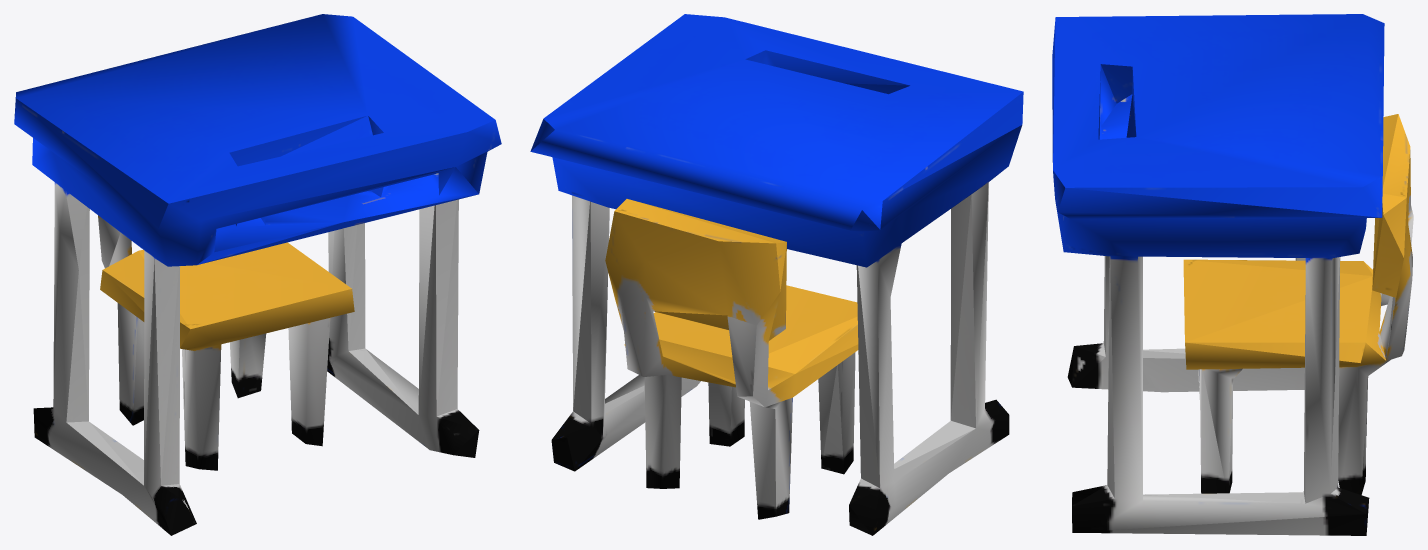
File: student-desk.glb
3 renders of one model, left to right at view 1: azimuth 30°, elevation 25°; view 2: azimuth 150°, elevation 25°; view 3: azimuth 270°, elevation 25°, orthographic. The views are drawn at different scales.
Visible parts, largest first — view 1: geometry_0.001; view 2: geometry_0.001; view 3: geometry_0.001.
Part boxes in pixels (x1,y1,x2,y2): geometry_0.001: (14, 14, 501, 535); geometry_0.001: (530, 14, 1023, 535); geometry_0.001: (1052, 14, 1413, 535).
Size of the model in its own units: 0.9892 by 0.9702 by 0.8646.
Materials: 1 (1 with a texture image).
